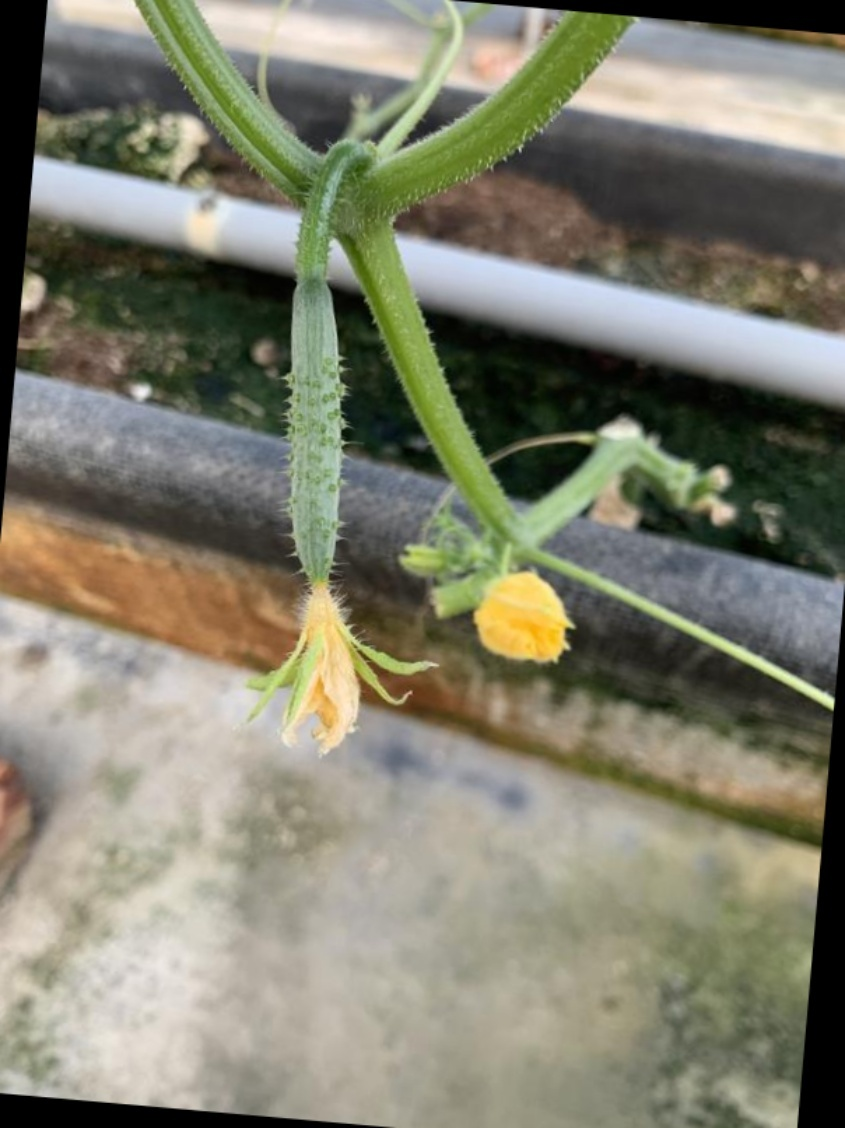bear: (228, 251, 418, 743)
